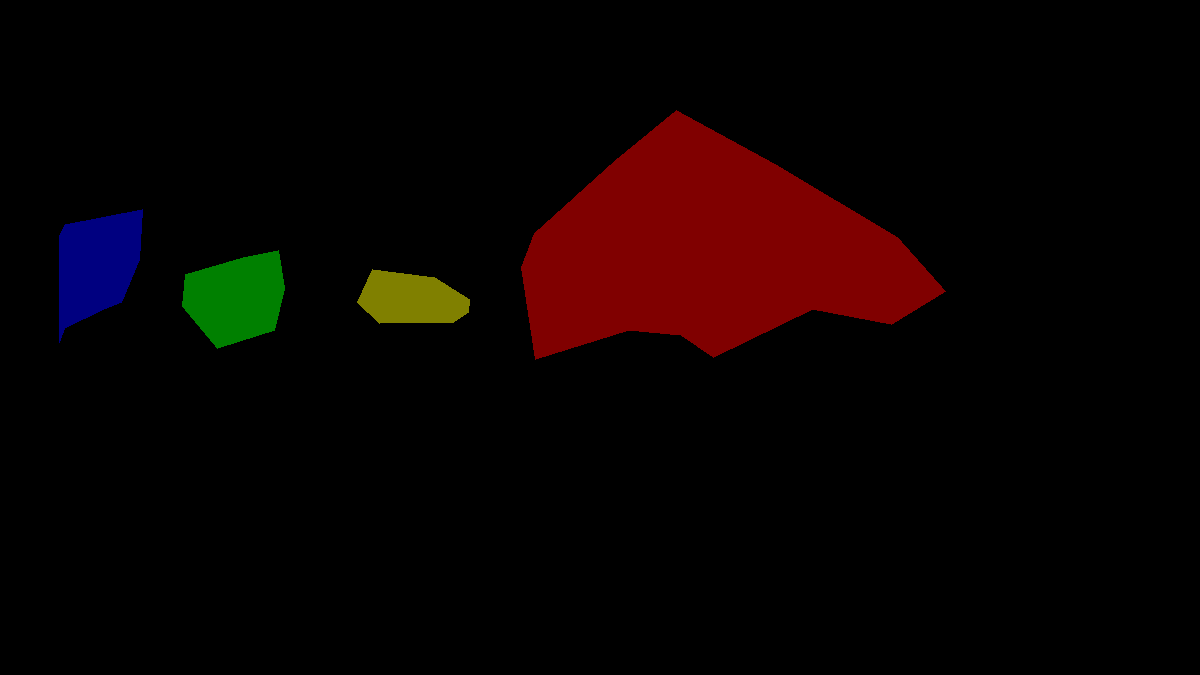fire: (521, 110, 945, 359), (59, 209, 142, 342), (182, 250, 284, 348), (357, 269, 469, 323)
